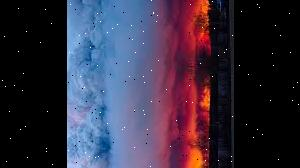fire: (184, 0, 212, 168)
